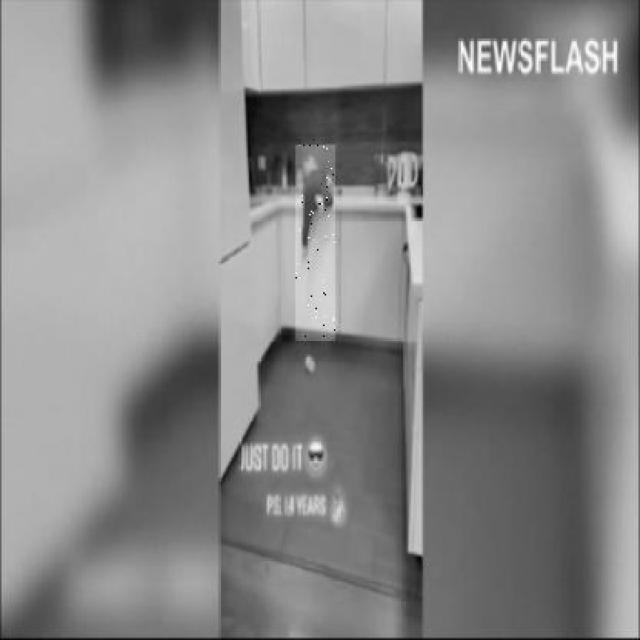child: (296, 145, 336, 341)
